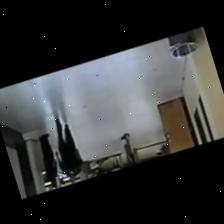person: (56, 118, 82, 181), (39, 133, 57, 187), (121, 132, 137, 165)
